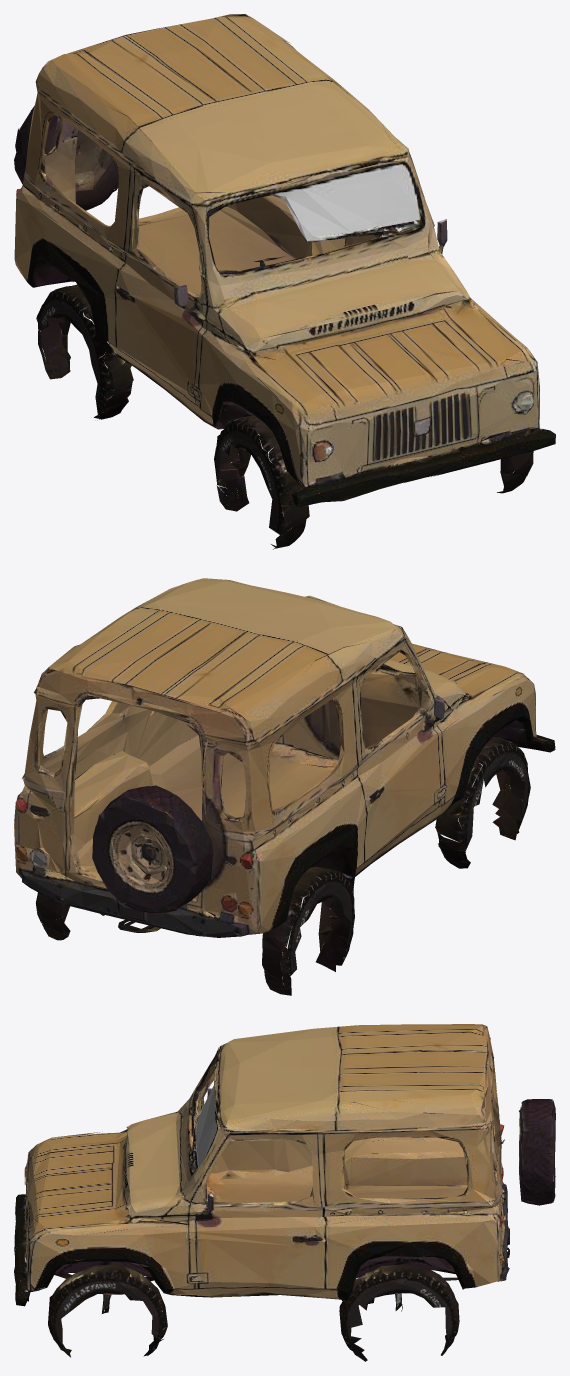
The model's file is jeep_body.glb.
The picture shows the model from 3 angles, top to bottom: view 1: azimuth 30°, elevation 25°; view 2: azimuth 150°, elevation 25°; view 3: azimuth 270°, elevation 25°; orthographic projection. The views are drawn at different scales.
Visible parts, largest first — view 1: geometry_0; view 2: geometry_0; view 3: geometry_0.
Boxes of the visible parts, bbox=[...] form: geometry_0: bbox=[14, 14, 555, 549]; geometry_0: bbox=[14, 578, 555, 995]; geometry_0: bbox=[14, 1024, 555, 1361].
Size of the model in its own units: 0.4806 by 0.5212 by 1.
1 material, 1 textured.
